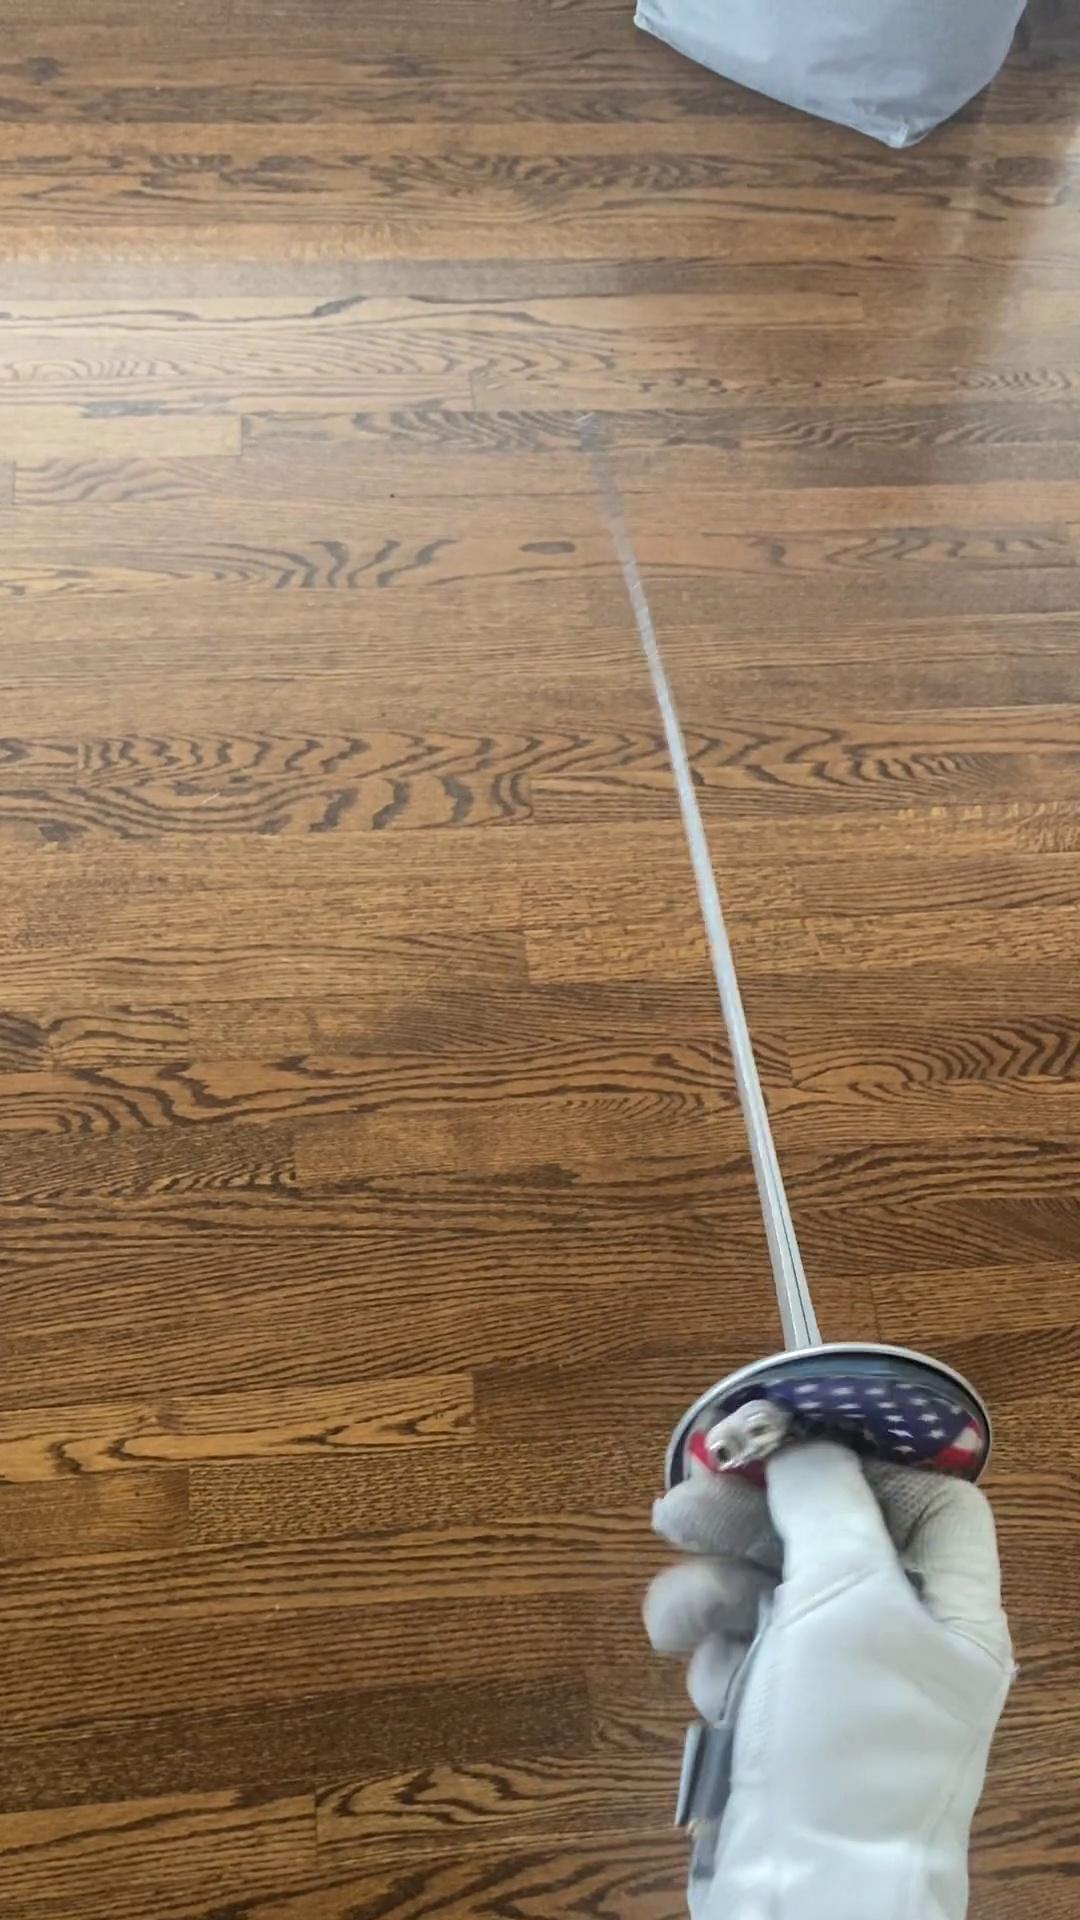blade-guard: (631, 1306, 1010, 1623)
blade-tip: (531, 391, 666, 576)
fencing-blade: (514, 384, 1034, 1648)
